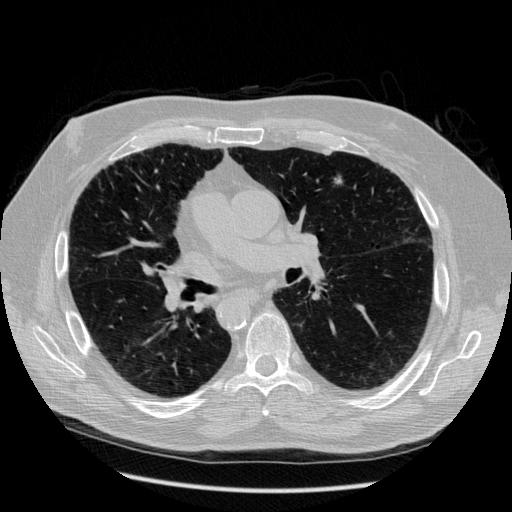nodule: (332, 173, 348, 189)
